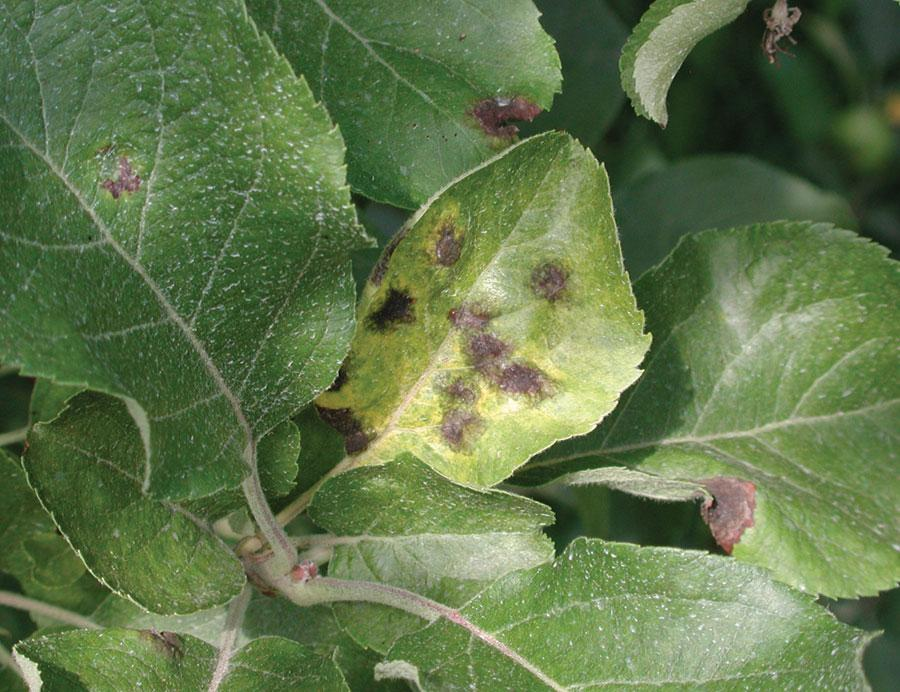Apple Scab Leaf: (1, 4, 388, 529), (321, 117, 652, 501)
